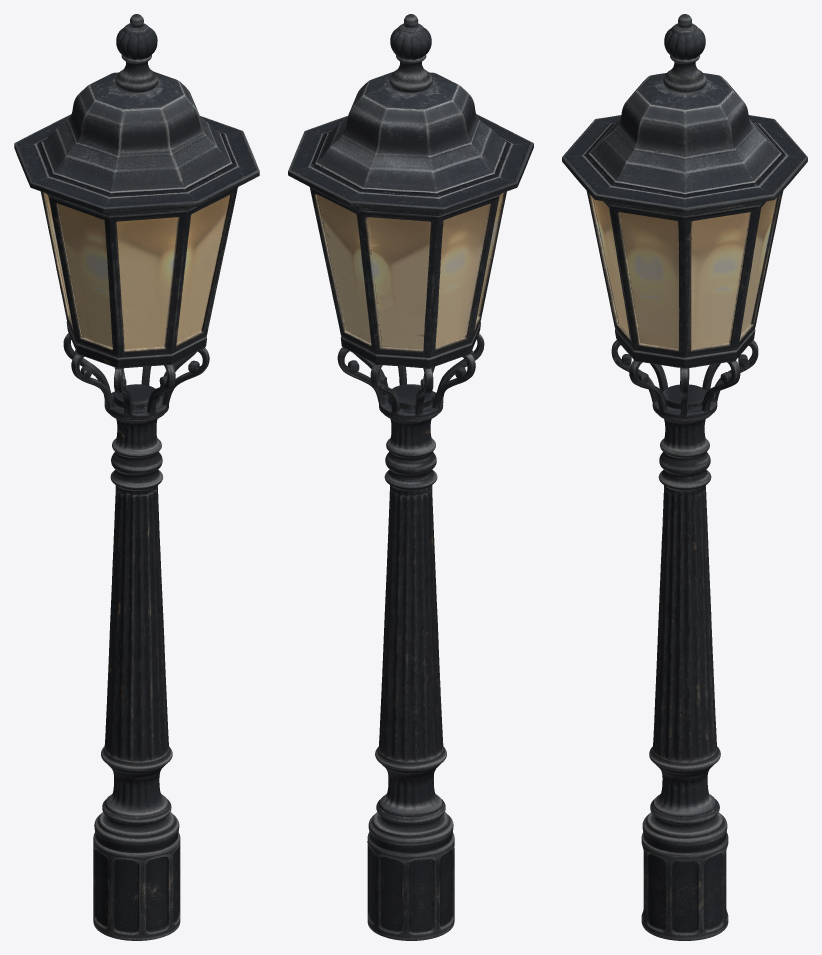
Rendered from lampione_ghisa.glb.
The picture shows the model from 3 angles, left to right: view 1: azimuth 30°, elevation 25°; view 2: azimuth 150°, elevation 25°; view 3: azimuth 270°, elevation 25°; orthographic projection.
Visible parts, largest first — view 1: Mesh_0; view 2: Mesh_0; view 3: Mesh_0.
Part boxes in pixels (x1,y1,x2,y2): Mesh_0: [14, 14, 259, 940]; Mesh_0: [288, 14, 533, 940]; Mesh_0: [562, 14, 807, 940].
Bounding box in the file's own units: 0.7357 × 3 × 0.7355.
Materials: 1 (1 with a texture image).
